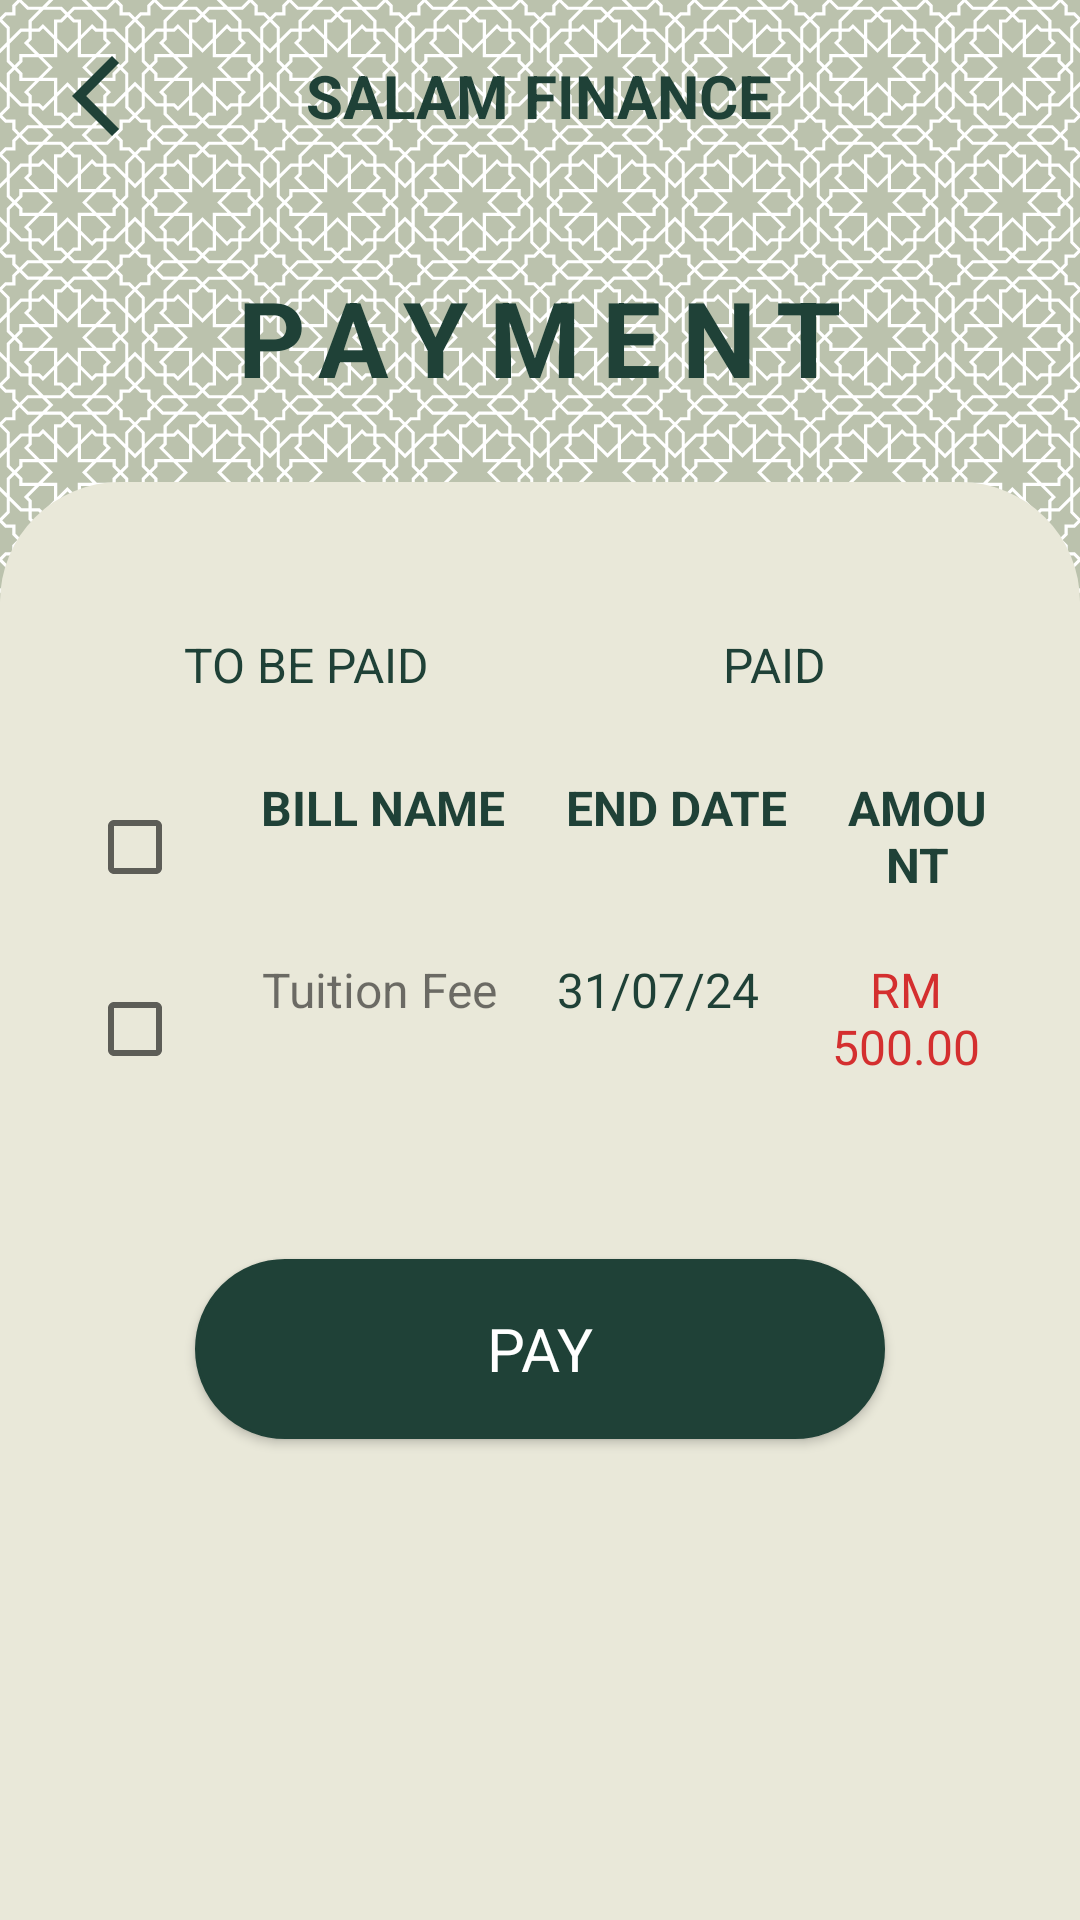

Named icons in this screenshot (1080x1920) and their bounding boxes, region(x1, y1, x2, y2):
arrow back: region(48, 48, 144, 144)
